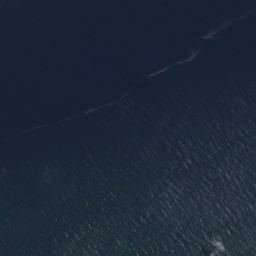Marine Debris: (148, 53, 197, 79)
